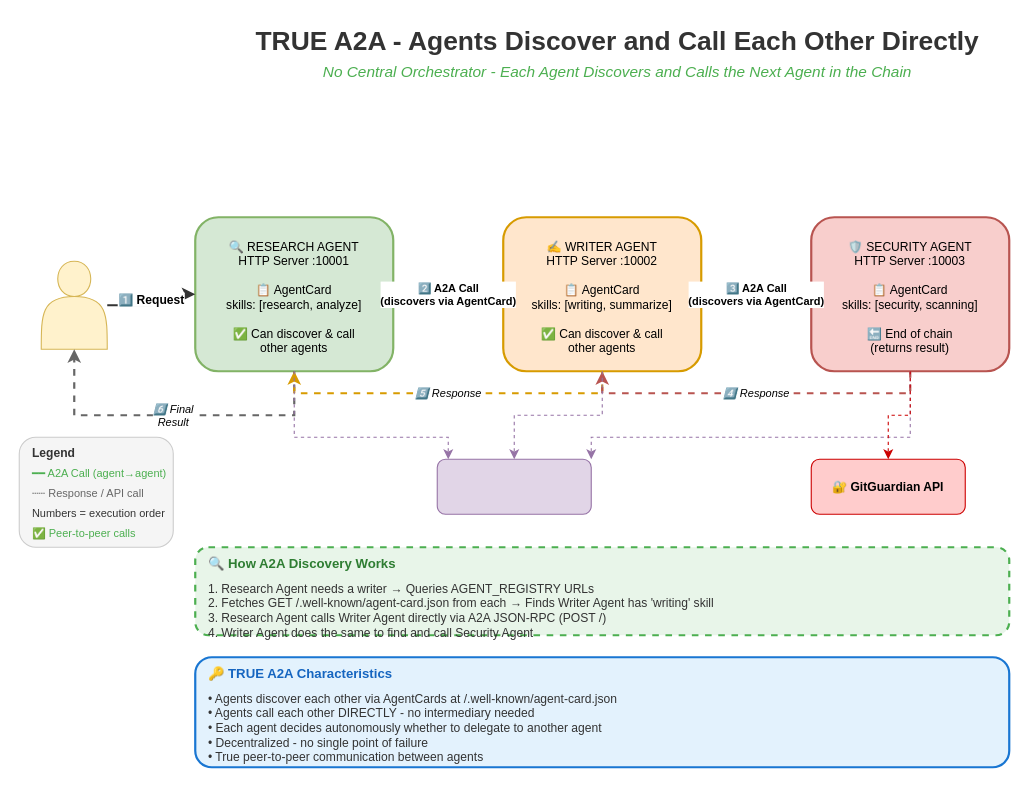
Image size: 1030x787. Some labels were removed from this diagram. The shapes that lost their labels are listed below. From the top down, each one's box as (x1, y1, x2, y2) in pixels, then its label:
(40, 260, 107, 349): 👤 User
(436, 458, 591, 514): ☁️ AWS Bedrock Claude Haiku 4.5
